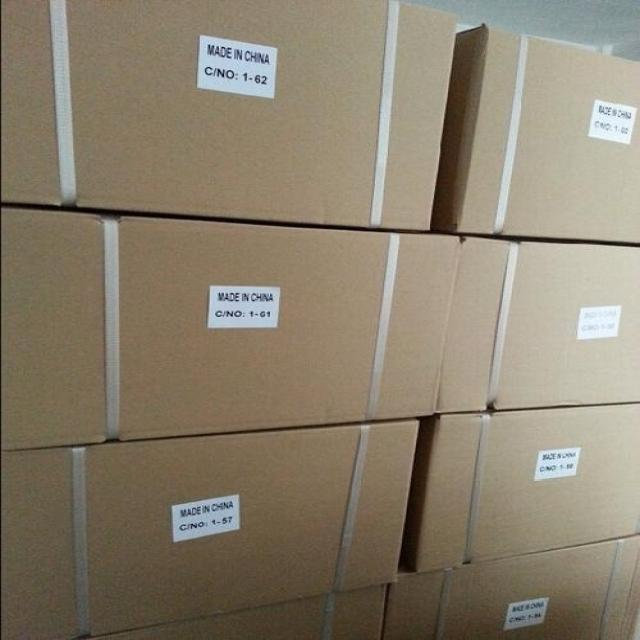box: (0, 207, 461, 452), (0, 0, 461, 231), (0, 418, 419, 640), (433, 25, 640, 243), (401, 403, 640, 573), (436, 235, 640, 414), (381, 538, 640, 640)
